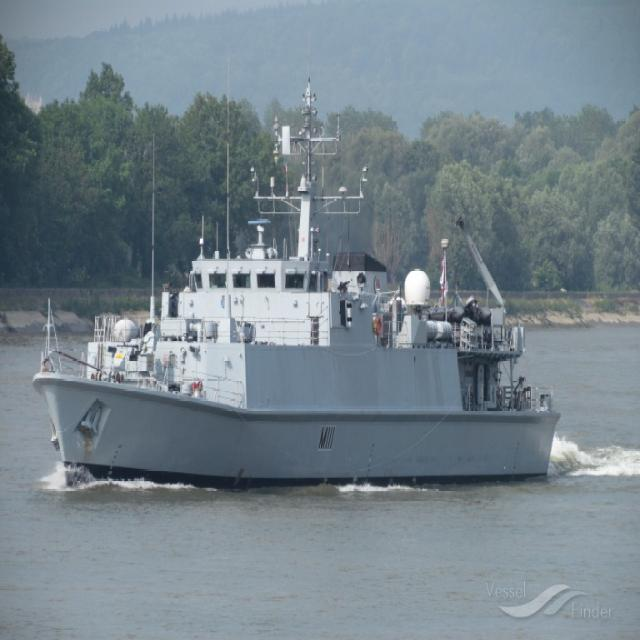OCR: (318, 418, 340, 456)
